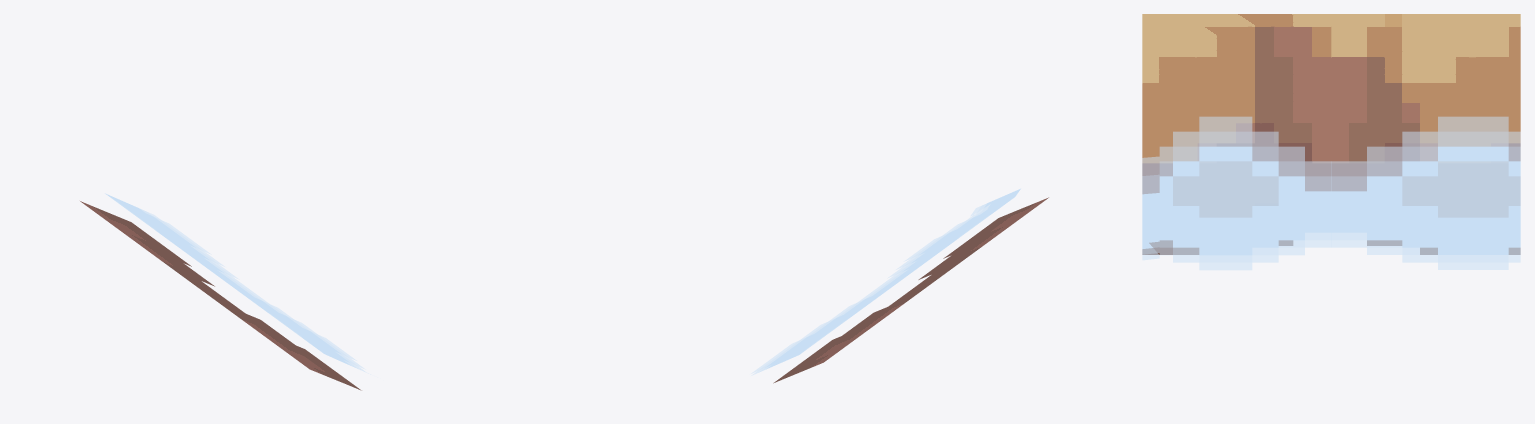
3 renders of one model, left to right at view 1: azimuth 30°, elevation 25°; view 2: azimuth 150°, elevation 25°; view 3: azimuth 270°, elevation 25°, orthographic. The views are drawn at different scales.
Size of the model in its own units: 1 by 0.6892 by 1.
Materials: 2 (2 with a texture image).
